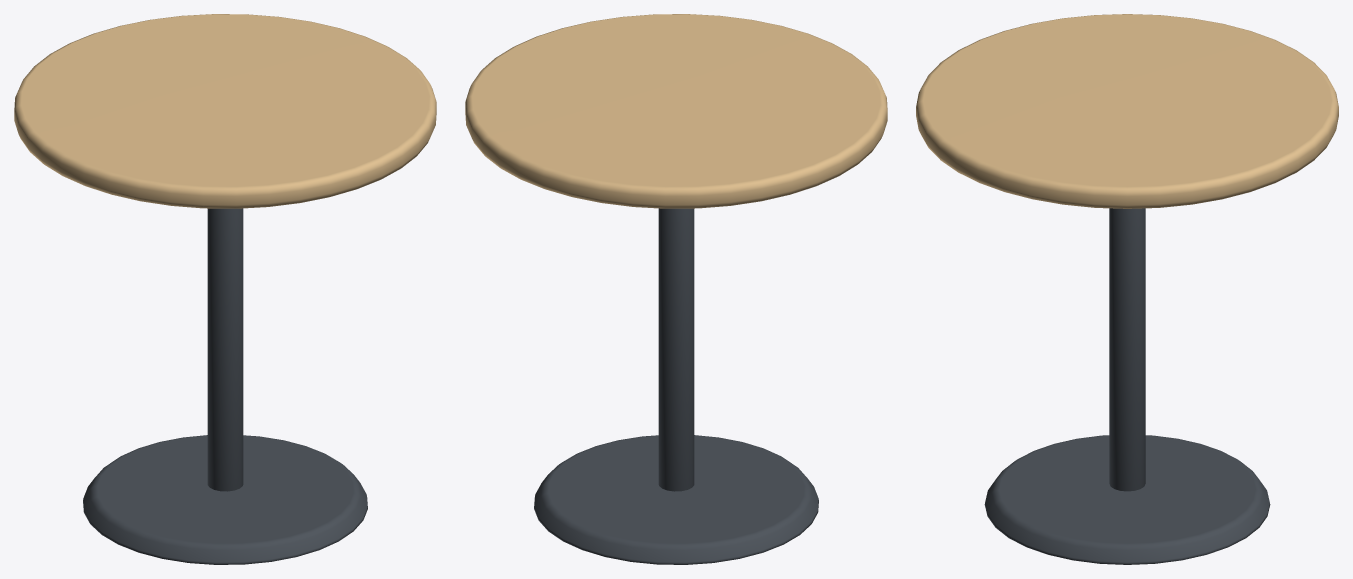
The model's file is cafetable.glb.
The picture shows the model from 3 angles, left to right: view 1: azimuth 30°, elevation 25°; view 2: azimuth 150°, elevation 25°; view 3: azimuth 270°, elevation 25°; orthographic projection.
Visible parts, largest first — view 1: Cone, Cone.001; view 2: Cone, Cone.001; view 3: Cone, Cone.001.
Part boxes in pixels (x1,y1,x2,y2): Cone: [14, 14, 436, 208]; Cone.001: [83, 208, 367, 564]; Cone: [465, 14, 887, 208]; Cone.001: [534, 208, 818, 564]; Cone: [916, 14, 1338, 208]; Cone.001: [984, 208, 1270, 564].
Size of the model in its own units: 0.7 by 0.74 by 0.7.
